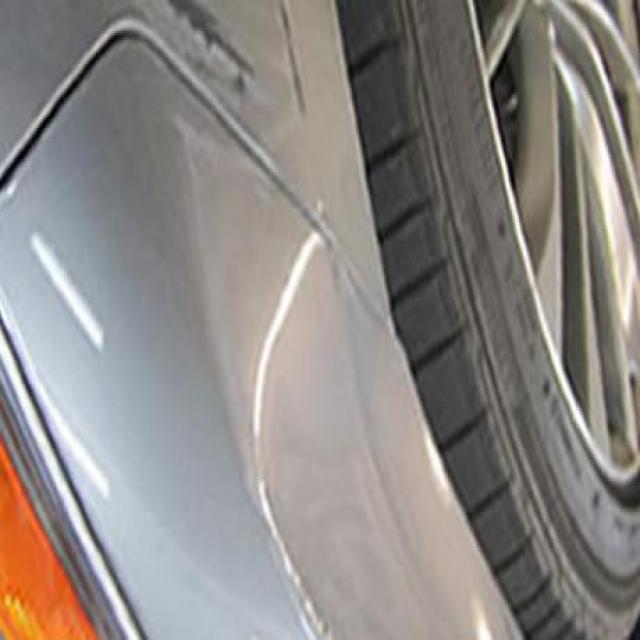scratch: (123, 0, 291, 132)
